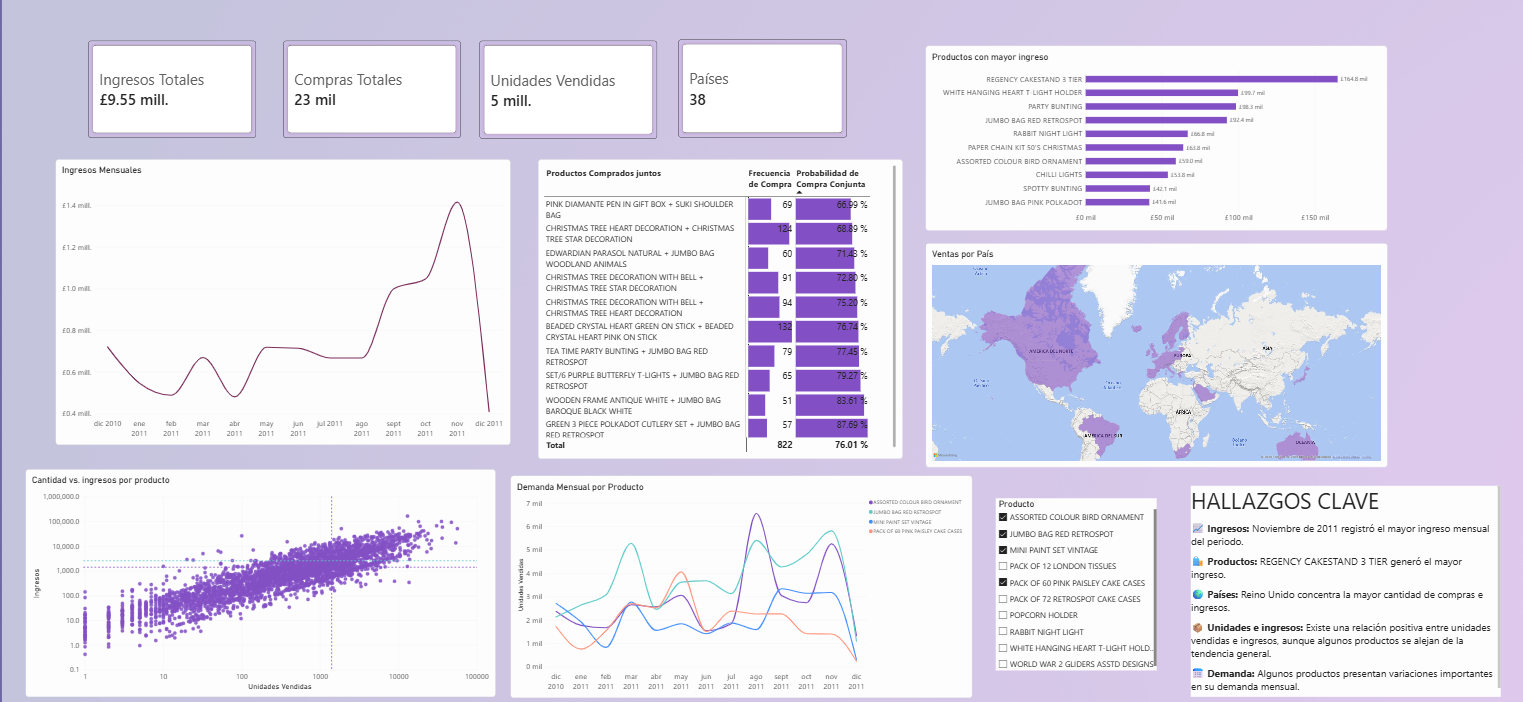

The page's visual inventory and layout, read from the dashboard file:
{"tool":"powerbi","page":{"name":"Página 1","canvas":[4100,2010],"ordinal":0},"visuals":[{"type":"cardVisual","fields":{"Data":["Sum(data_clean.Revenue)"]},"box":[232.4,212.6,452.4,261.9],"z":0},{"type":"cardVisual","fields":{"Data":["Sum(data_clean.Quantity)"]},"box":[1287.1,212.6,478.6,264.3],"z":1000},{"type":"cardVisual","fields":{"Data":["data_clean.Compras Totales"]},"box":[756.2,212.6,478.6,261.9],"z":2000},{"type":"cardVisual","fields":{"Data":["data_clean.Países"]},"box":[1820.5,210.2,454.8,264.3],"z":3000},{"type":"lineChart","title":"Ingresos Mensuales","fields":{"Category":["data_clean.Mes_Año"],"Y":["Sum(data_clean.Revenue)"]},"box":[143.8,531.2,1225,768.8],"z":4000},{"type":"barChart","title":"Productos con mayor ingreso","fields":{"Category":["data_clean.Description"],"Y":["Sum(data_clean.Revenue)"]},"box":[2487.5,225,1242.9,497.6],"z":5000},{"type":"filledMap","title":"Ventas por País","fields":{"Category":["data_clean.Country"]},"box":[2487.5,756.2,1243.8,603.1],"z":6000},{"type":"scatterChart","title":"Cantidad vs. ingresos por producto","fields":{"Category":["Productos_Q4.StockCode"],"X":["Sum(Productos_Q4.Quantity)"],"Y":["Sum(Productos_Q4.Revenue)"]},"box":[62.5,1368.8,1265.6,612.5],"z":7000},{"type":"actionButton","box":[0,0,100,40],"z":8000},{"type":"pivotTable","fields":{"Rows":["q1_product_pairs.Par de productos"],"Values":["Sum(q1_product_pairs.Frecuencia)","Avg(q1_product_pairs.Probabilidad)"]},"box":[1443.8,531.2,981.2,806.2],"z":9000},{"type":"lineChart","title":"Demanda Mensual por Producto","fields":{"Category":["data_clean.Mes_Año"],"Series":["data_clean.Description"],"Y":["Sum(data_clean.Quantity)"]},"box":[1371.4,1382.9,1242.9,598.6],"z":10000},{"type":"slicer","fields":{"Values":["data_clean.Description"]},"box":[2677.1,1444.3,433.3,464.1],"z":11000},{"type":"textbox","box":[3202.9,1411.2,835.3,569.2],"z":12000}]}

Visuals, with their boxes in screenshot pixels (x1, y1, x2, y2):
cardVisual - Sum(data_clean.Revenue): bbox=[86, 39, 254, 136]
cardVisual - Sum(data_clean.Quantity): bbox=[476, 39, 654, 137]
cardVisual - data_clean.Compras Totales: bbox=[280, 39, 457, 136]
cardVisual - data_clean.Países: bbox=[674, 38, 842, 136]
"Ingresos Mensuales" lineChart: bbox=[53, 157, 507, 442]
"Productos con mayor ingreso" barChart: bbox=[921, 44, 1381, 228]
"Ventas por País" filledMap: bbox=[921, 240, 1381, 464]
"Cantidad vs. ingresos por producto" scatterChart: bbox=[23, 467, 492, 694]
pivotTable - q1_product_pairs.Par de productos x Sum(q1_product_pairs.Frecuencia): bbox=[535, 157, 898, 455]
"Demanda Mensual por Producto" lineChart: bbox=[508, 472, 968, 694]
slicer - data_clean.Description: bbox=[991, 495, 1152, 667]
textbox: bbox=[1186, 483, 1495, 694]
